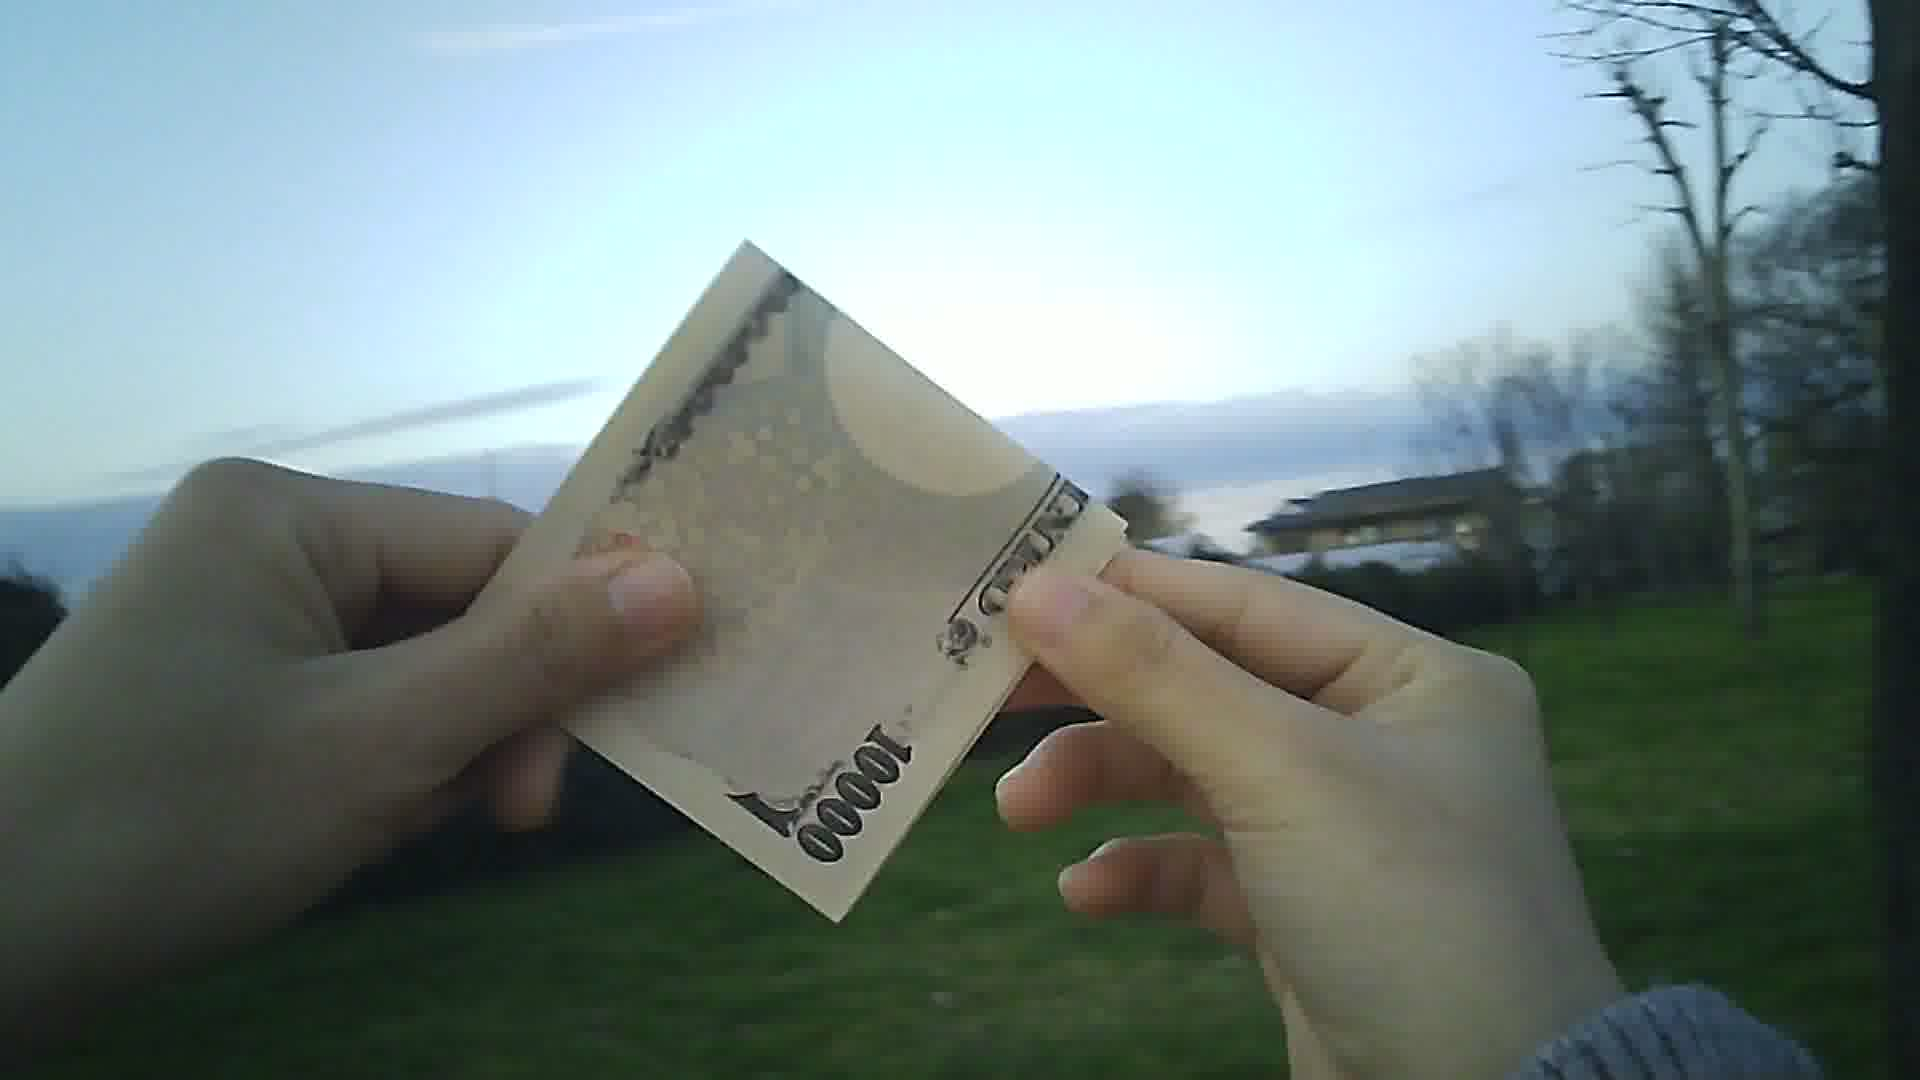10,000 Yen: (442, 210, 1122, 938)
